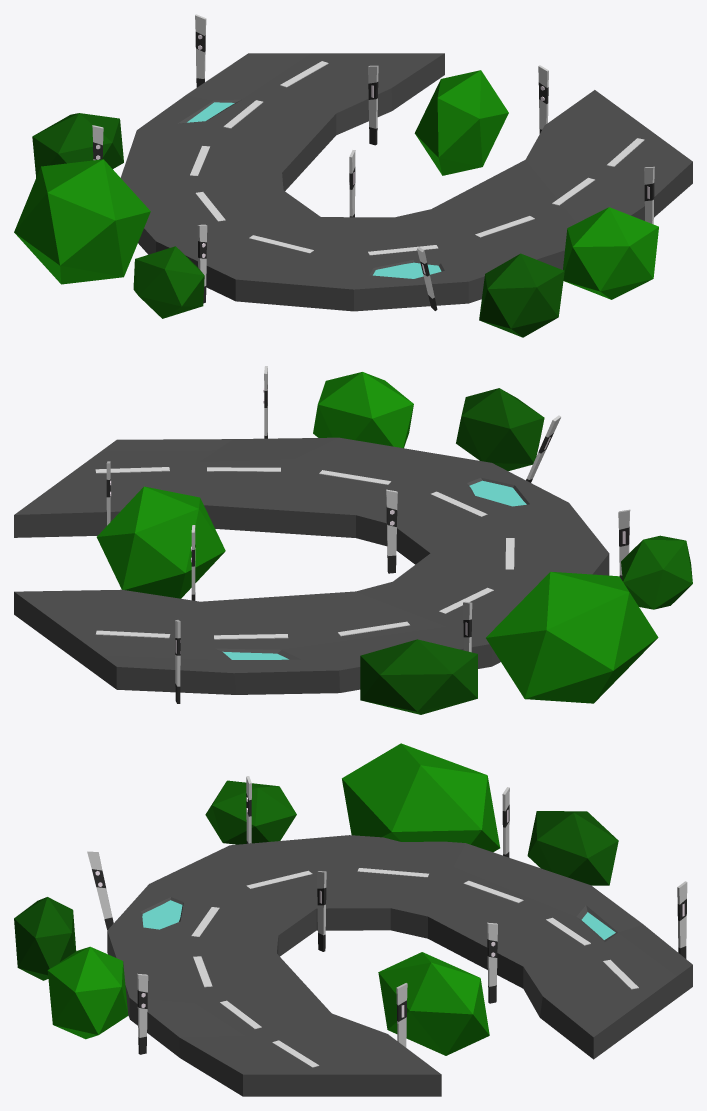
File: street2_01_3.fbx
The picture shows the model from 3 angles, top to bottom: view 1: azimuth 30°, elevation 25°; view 2: azimuth 150°, elevation 25°; view 3: azimuth 270°, elevation 25°; orthographic projection. The views are drawn at different scales.
Visible parts, largest first — view 1: street01Damaged, bush.001, bush.005, bush.003, bush.004, bush, bush.002, penguin.069, penguin.068, water, penguin.071, penguin.064 (+1 smaller); view 2: street01Damaged, bush.001, bush.003, bush.002, bush.005, bush.004, bush, penguin.070, water, penguin.066; view 3: street01Damaged, bush.001, bush.003, bush.005, bush.002, bush, bush.004, water, penguin.064, penguin.069, penguin.065, penguin.070 (+2 smaller).
Part boxes in pixels (x1,y1,x2,y2): street01Damaged: [120, 53, 692, 311]; bush.001: [14, 159, 150, 284]; bush.005: [563, 207, 658, 299]; bush.003: [414, 70, 508, 175]; bush.004: [479, 253, 564, 337]; bush: [133, 246, 204, 318]; bush.002: [32, 113, 123, 177]; penguin.069: [368, 65, 378, 145]; penguin.068: [195, 14, 206, 87]; water: [373, 262, 441, 278]; penguin.071: [538, 65, 548, 133]; penguin.064: [644, 166, 654, 224]; street01Damaged: [14, 437, 609, 694]; bush.001: [486, 571, 658, 703]; bush.003: [96, 486, 225, 598]; bush.002: [360, 639, 477, 714]; bush.005: [313, 372, 413, 448]; bush.004: [456, 388, 544, 471]; bush: [621, 535, 692, 609]; penguin.070: [386, 489, 397, 573]; water: [469, 480, 526, 506]; penguin.066: [618, 509, 630, 580]; street01Damaged: [107, 835, 692, 1096]; bush.001: [342, 743, 500, 852]; bush.003: [378, 952, 489, 1055]; bush.005: [47, 946, 128, 1039]; bush.002: [527, 811, 618, 885]; bush: [205, 780, 296, 844]; bush.004: [14, 897, 76, 980]; water: [142, 900, 182, 929]; penguin.064: [137, 973, 148, 1054]; penguin.069: [487, 922, 497, 1003]; penguin.065: [87, 851, 113, 929]; penguin.070: [317, 871, 326, 951].
Size of the model in its own units: 94.71 by 18.11 by 95.38.
